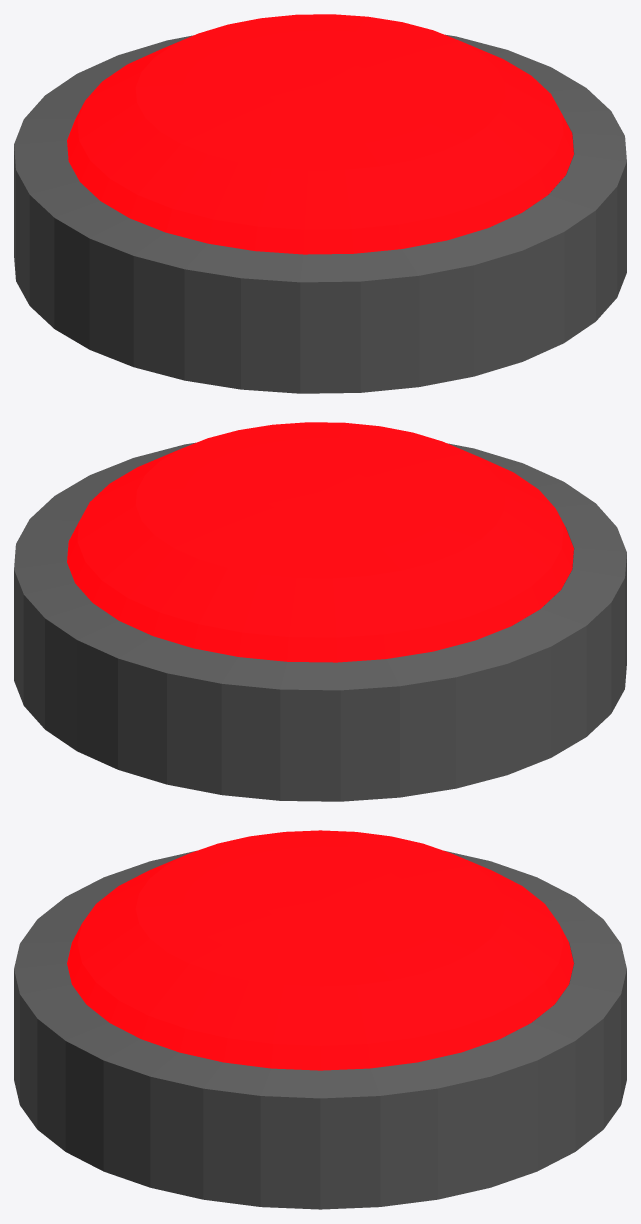
File: ButtonRed.fbx
The picture shows the model from 3 angles, top to bottom: view 1: azimuth 30°, elevation 25°; view 2: azimuth 150°, elevation 25°; view 3: azimuth 270°, elevation 25°; orthographic projection.
Parts seen in each view (by area): view 1: ButtonBase, ButtonHead; view 2: ButtonBase, ButtonHead; view 3: ButtonBase, ButtonHead.
Part boxes in pixels (<box>): ButtonBase: <box>14,34,626,393</box>; ButtonHead: <box>67,14,573,254</box>; ButtonBase: <box>14,442,626,801</box>; ButtonHead: <box>67,422,573,662</box>; ButtonBase: <box>14,850,626,1209</box>; ButtonHead: <box>67,830,573,1070</box>.
Size of the model in its own units: 200 by 64.78 by 200.
